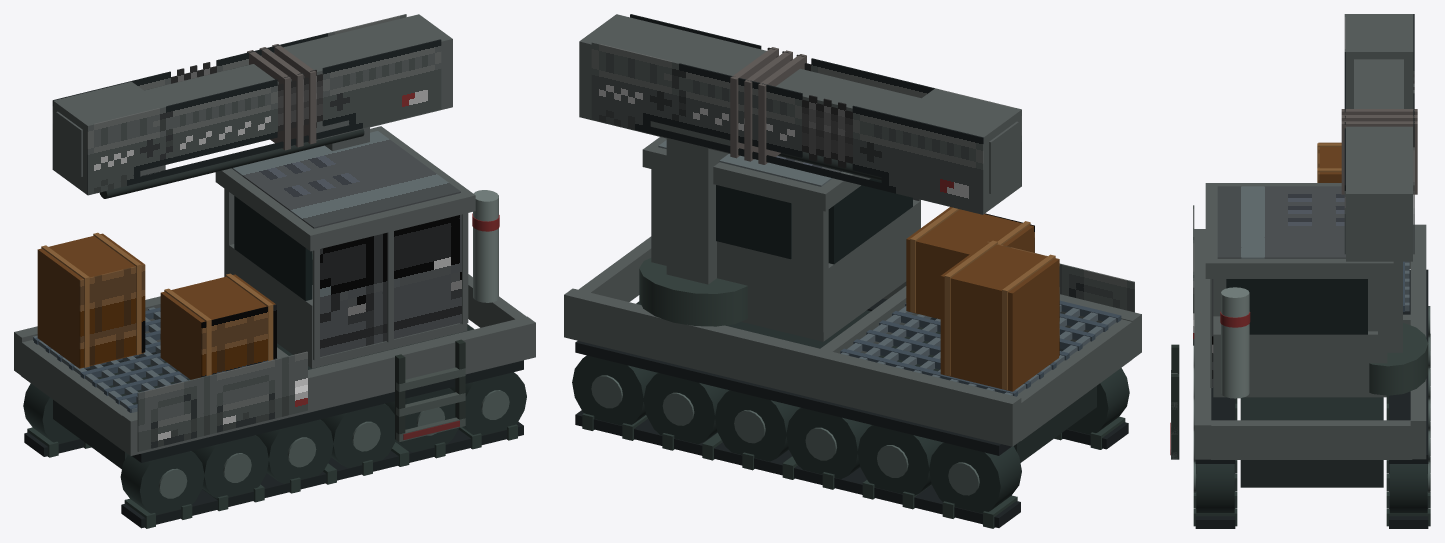
File: CMU3DRMCPropVehicleCargoCraneCargo.glb
3 renders of one model, left to right at view 1: azimuth 30°, elevation 25°; view 2: azimuth 150°, elevation 25°; view 3: azimuth 270°, elevation 25°, orthographic. The views are drawn at different scales.
Parts seen in each view (by area): view 1: original boom forward markings, original cab doors and black glazing, original cab roof vent, original chassis compartments, deck front edge, cab roof, cargo crate 0, deck cross support (×2), boom outer section, cargo crate 1, original cargo face 0, cab side glass (+33 smaller); view 2: original boom rear markings, deck back edge, cargo crate 0, cab rear bulkhead, deck cross support (×3), boom outer section, boom support mast, cargo crate 1, upper track run 1, cab side lower, boom turntable, boom telescopic inner (+31 smaller); view 3: original cab roof vent, boom outer section, deck cross support, cab side lower (×2), central chassis, cab side glass, cab roof, boom end housing, deck front edge, deck back edge, side hydraulic cylinder, boom turntable (+16 smaller).
Boxes of the visible parts, x1,y1,x2,y2 form: original boom forward markings: [87, 39, 441, 195]; original cab doors and black glazing: [320, 214, 461, 357]; original cab roof vent: [232, 131, 460, 228]; original chassis compartments: [137, 351, 307, 451]; deck front edge: [122, 316, 535, 455]; cab roof: [215, 126, 475, 251]; cargo crate 0: [37, 233, 144, 368]; deck cross support (×2): [21, 274, 526, 449]; boom outer section: [283, 14, 452, 140]; cargo crate 1: [160, 274, 275, 379]; original cargo face 0: [79, 264, 145, 367]; cab side glass: [234, 196, 312, 300]; original boom rear markings: [591, 42, 983, 214]; deck back edge: [564, 288, 1021, 446]; cargo crate 0: [940, 242, 1058, 391]; cab rear bulkhead: [651, 169, 828, 332]; deck cross support (×3): [578, 236, 1132, 441]; boom outer section: [579, 14, 766, 153]; boom support mast: [666, 138, 728, 284]; cargo crate 1: [906, 207, 1033, 319]; upper track run 1: [575, 341, 1011, 455]; cab side lower: [828, 199, 920, 328]; boom turntable: [639, 258, 747, 326]; boom telescopic inner: [776, 68, 1018, 193]; original cab roof vent: [1217, 186, 1345, 258]; boom outer section: [1346, 126, 1412, 261]; deck cross support: [1211, 420, 1412, 459]; cab side lower (×2): [1213, 279, 1378, 388]; central chassis: [1240, 397, 1383, 487]; cab side glass: [1226, 279, 1367, 334]; cab roof: [1205, 183, 1393, 278]; boom end housing: [1346, 14, 1413, 108]; deck front edge: [1194, 229, 1211, 459]; deck back edge: [1410, 224, 1426, 459]; side hydraulic cylinder: [1221, 287, 1249, 398]; boom turntable: [1369, 322, 1428, 395].
Size of the model in its own units: 1.95 by 1.58 by 1.09.
25 materials, 6 textured.
